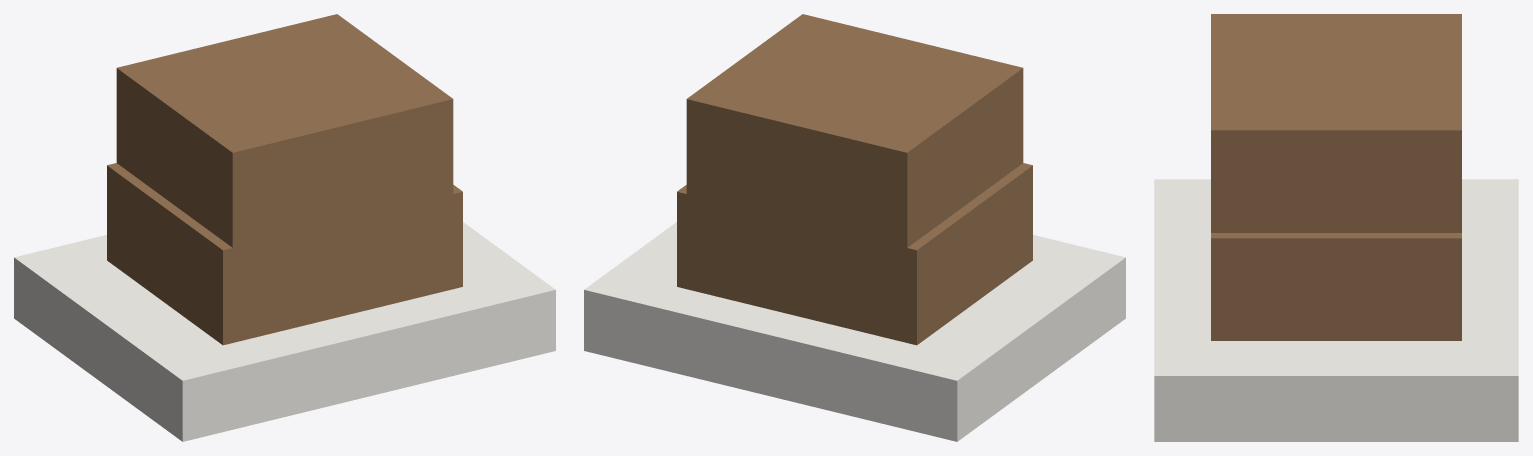
Rendered from storage_cabinet-lv2.glb.
The picture shows the model from 3 angles, left to right: view 1: azimuth 30°, elevation 25°; view 2: azimuth 150°, elevation 25°; view 3: azimuth 270°, elevation 25°; orthographic projection. The views are drawn at different scales.
Parts seen in each view (by area): view 1: Level2, Base, Level1; view 2: Level2, Base, Level1; view 3: Base, Level2, Level1.
Part boxes in pixels (left/top/right/bottom): Level2: left=116, top=14, right=453, bottom=247; Base: left=14, top=222, right=555, bottom=441; Level1: left=107, top=163, right=462, bottom=345; Level2: left=686, top=14, right=1023, bottom=247; Base: left=584, top=222, right=1125, bottom=441; Level1: left=677, top=163, right=1032, bottom=345; Base: left=1154, top=179, right=1518, bottom=441; Level2: left=1211, top=14, right=1461, bottom=232; Level1: left=1211, top=233, right=1461, bottom=340.
Size of the model in its own units: 1.15 by 0.74 by 0.9.
